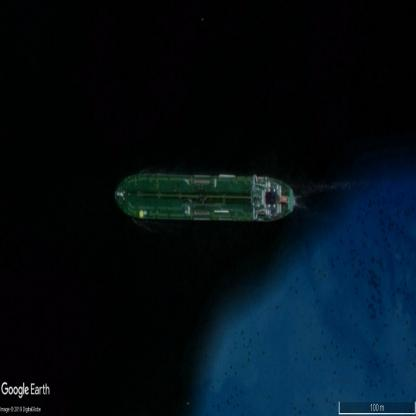ship: (114, 173, 295, 222)
